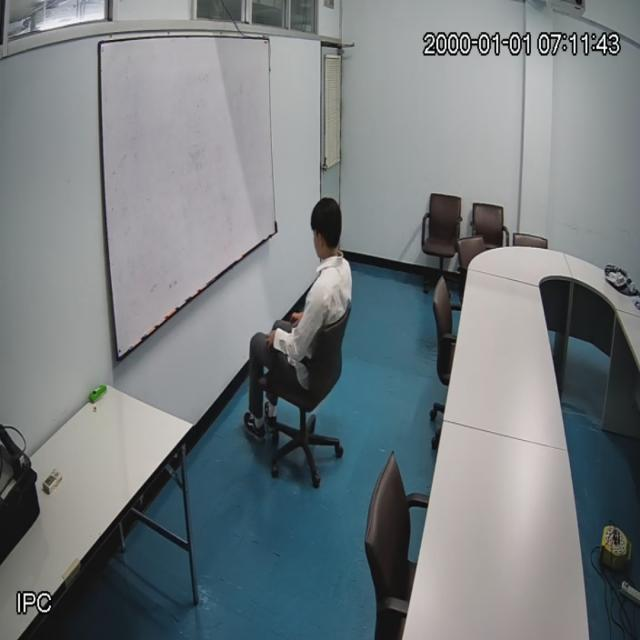normal: (238, 188, 358, 466)
